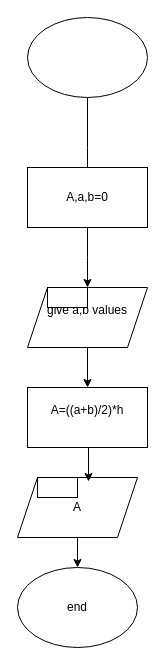
This 165x665 diagram has some shape labels left out. The centre of each missing label's shape, as x and y in pixels:
"print A" goes at (x=57, y=487).
"read" goes at (x=67, y=297).
"start" goes at (x=87, y=57).
